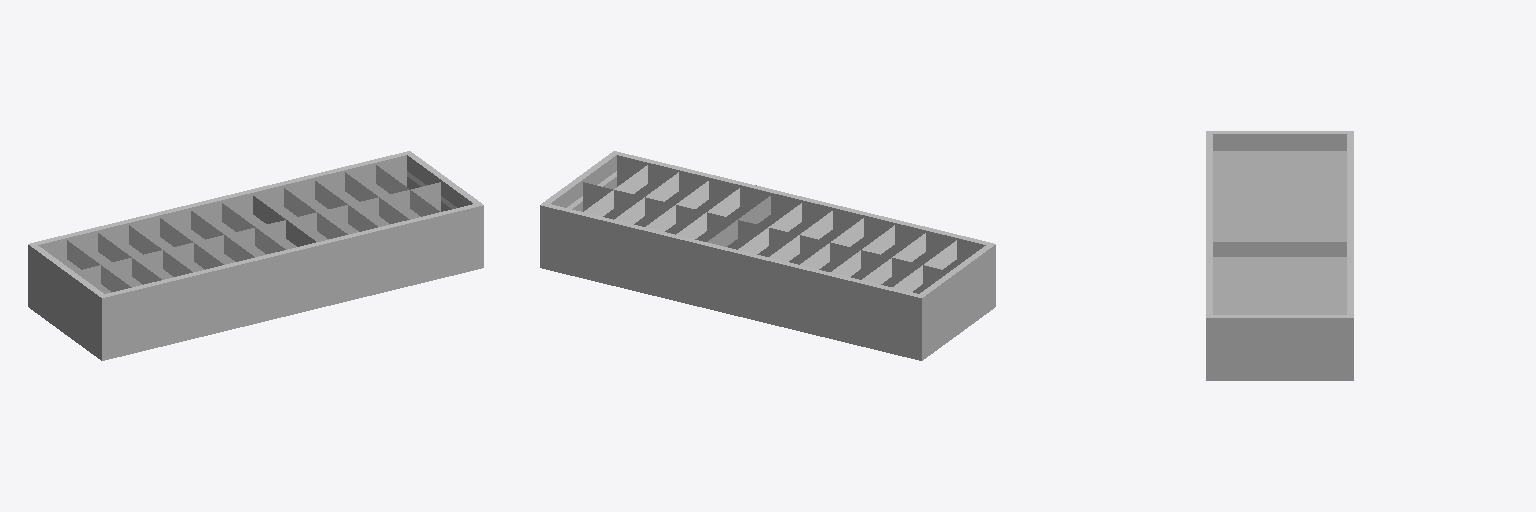
Rendered from office lights.obj.
The picture shows the model from 3 angles: view 1: azimuth 30°, elevation 25°; view 2: azimuth 150°, elevation 25°; view 3: azimuth 270°, elevation 25°; orthographic projection.
Visible parts, largest first — view 1: Cube, Plane.1_1, Plane.1.9, Plane.1.4, Plane.1.5, Plane.1.10, Plane.1.0, Plane.1.1, Plane.1.6, Plane.1.7, Plane.1.8, Plane.1.2 (+1 smaller); view 2: Cube, Plane.1_1, Plane.1.9, Plane.1.4, Plane.1.5, Plane.1.10, Plane.1.0, Plane.1.1, Plane.1.6, Plane.1.7, Plane.1.8, Plane.1.2 (+1 smaller); view 3: Cube, Plane.1.4, Plane.1.0, Plane.1.1, Plane.1.2, Plane.1.3, Plane.1.5, Plane.1.6, Plane.1.7, Plane.1.8, Plane.1.9, Plane.1.10.
Boxes of the visible parts, box(x1,y1,x2,y2) form: Cube: box(28, 151, 483, 360); Plane.1_1: box(75, 182, 440, 293); Plane.1.9: box(345, 172, 409, 223); Plane.1.4: box(191, 211, 254, 261); Plane.1.5: box(222, 203, 285, 253); Plane.1.10: box(376, 165, 439, 216); Plane.1.0: box(67, 240, 131, 291); Plane.1.1: box(98, 233, 161, 284); Plane.1.6: box(253, 196, 315, 246); Plane.1.7: box(284, 188, 347, 238); Plane.1.8: box(315, 181, 377, 231); Plane.1.2: box(129, 225, 192, 276); Cube: box(540, 151, 995, 360); Plane.1_1: box(583, 182, 948, 293); Plane.1.9: box(614, 172, 678, 223); Plane.1.4: box(769, 211, 832, 261); Plane.1.5: box(738, 203, 801, 253); Plane.1.10: box(584, 165, 647, 216); Plane.1.0: box(892, 240, 956, 291); Plane.1.1: box(862, 233, 925, 284); Plane.1.6: box(708, 196, 770, 246); Plane.1.7: box(676, 188, 739, 238); Plane.1.8: box(646, 181, 708, 231); Plane.1.2: box(831, 225, 894, 276); Cube: box(1206, 131, 1353, 380); Plane.1.4: box(1213, 211, 1346, 226); Plane.1.0: box(1213, 151, 1346, 165); Plane.1.1: box(1213, 166, 1346, 180); Plane.1.2: box(1213, 181, 1346, 195); Plane.1.3: box(1213, 196, 1346, 210); Plane.1.5: box(1213, 227, 1346, 241); Plane.1.6: box(1213, 242, 1346, 256); Plane.1.7: box(1213, 257, 1346, 271); Plane.1.8: box(1213, 272, 1346, 286); Plane.1.9: box(1213, 287, 1346, 301); Plane.1.10: box(1213, 302, 1346, 314).
Bounding box in the file's own units: 594 × 93.23 × 200.